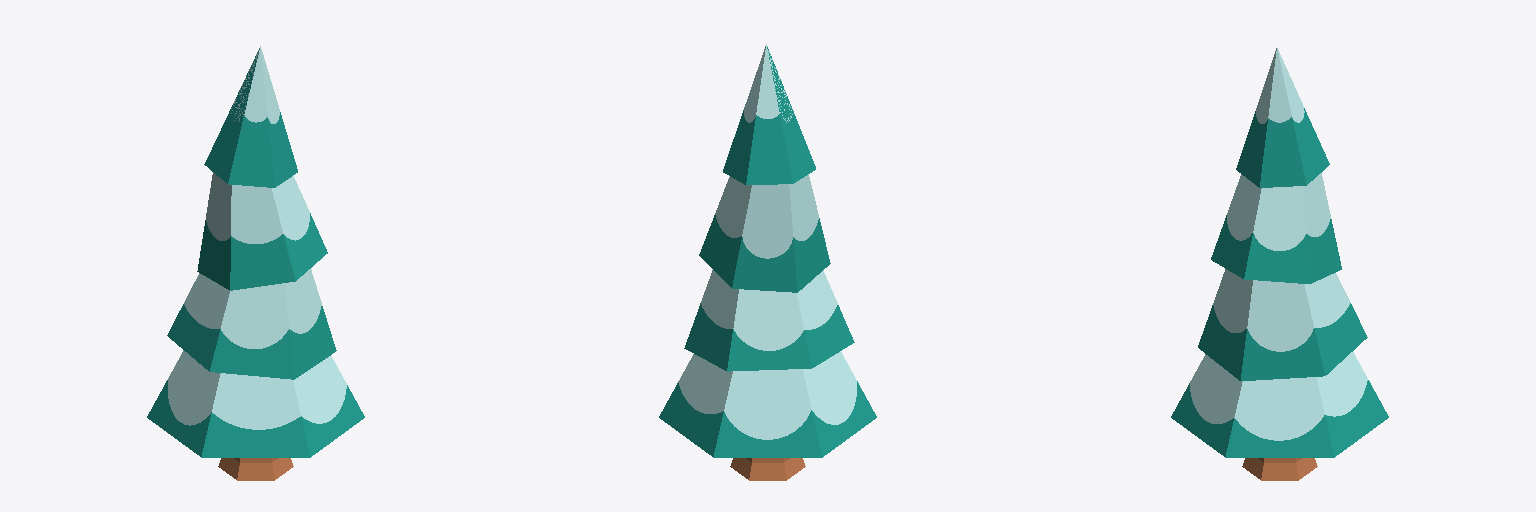
The model's file is treePineSnowRound.obj.
3 renders of one model, left to right at view 1: azimuth 30°, elevation 25°; view 2: azimuth 150°, elevation 25°; view 3: azimuth 270°, elevation 25°, orthographic.
Visible parts, largest first — view 1: treePineSnowRound; view 2: treePineSnowRound; view 3: treePineSnowRound.
Part boxes in pixels (bbox=[...]): treePineSnowRound: bbox=[147, 46, 364, 480]; treePineSnowRound: bbox=[659, 44, 876, 480]; treePineSnowRound: bbox=[1171, 48, 1388, 480].
Size of the model in its own units: 0.651 by 1.6 by 0.7517.